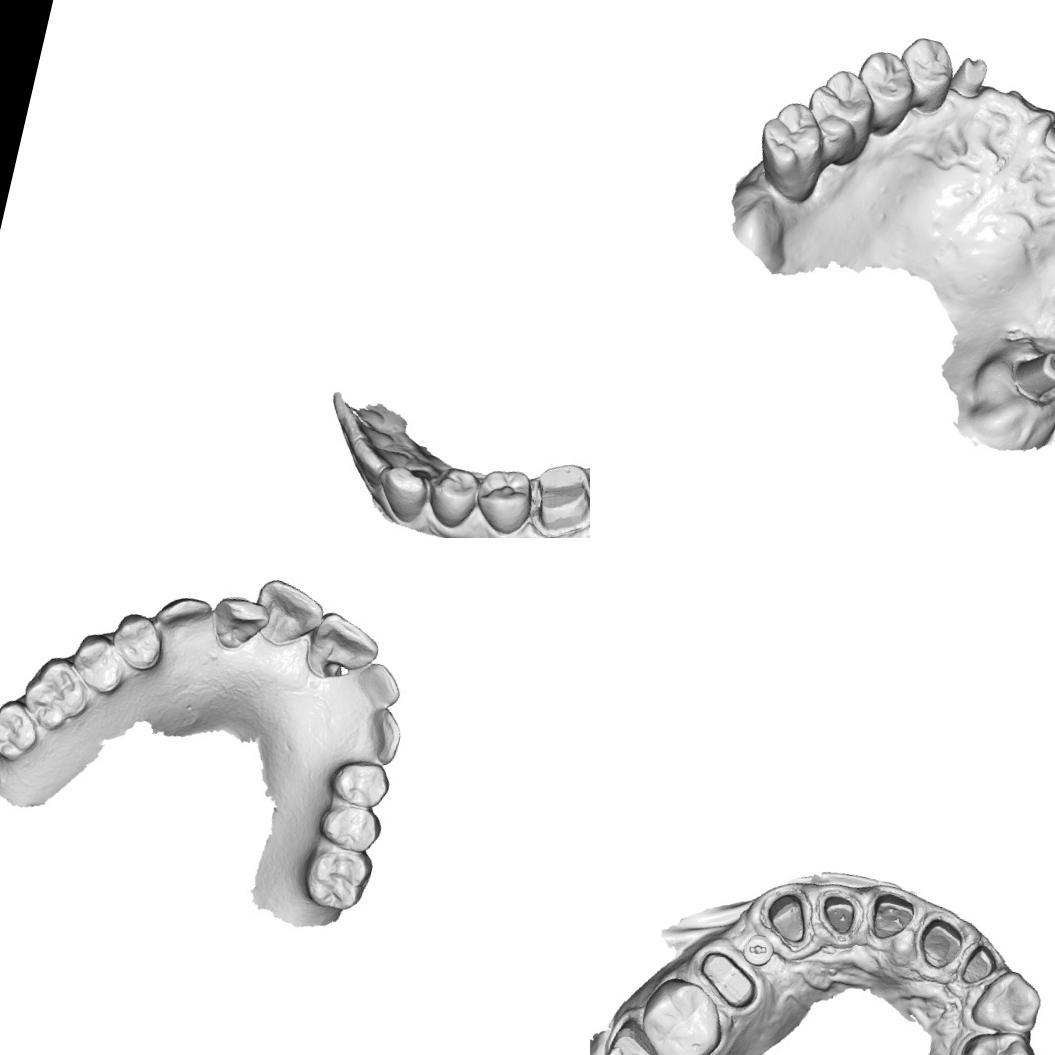abutment: (1006, 343, 1055, 408), (946, 52, 990, 102), (1045, 101, 1055, 161)
canine: (966, 962, 1050, 1042), (370, 460, 433, 528), (150, 588, 216, 639), (359, 704, 408, 767)
crown: (522, 454, 590, 538), (689, 946, 767, 1016), (911, 905, 971, 979), (808, 880, 872, 947), (758, 881, 820, 948), (860, 883, 920, 951), (594, 1010, 682, 1055), (950, 932, 1010, 997)
implant_minus: (737, 928, 780, 972)
incisor: (300, 608, 386, 690), (246, 574, 330, 654), (204, 590, 272, 658), (347, 438, 415, 486), (352, 659, 408, 714), (336, 408, 400, 454)
molar: (794, 62, 884, 171), (747, 96, 834, 207), (631, 969, 735, 1055), (14, 650, 97, 739), (298, 840, 376, 916), (0, 693, 46, 767)
premolar: (846, 45, 920, 136), (890, 33, 960, 118), (467, 460, 540, 538), (418, 459, 484, 535), (65, 628, 132, 697), (314, 795, 387, 858), (324, 751, 395, 813), (106, 608, 169, 674), (954, 1019, 1043, 1055)
